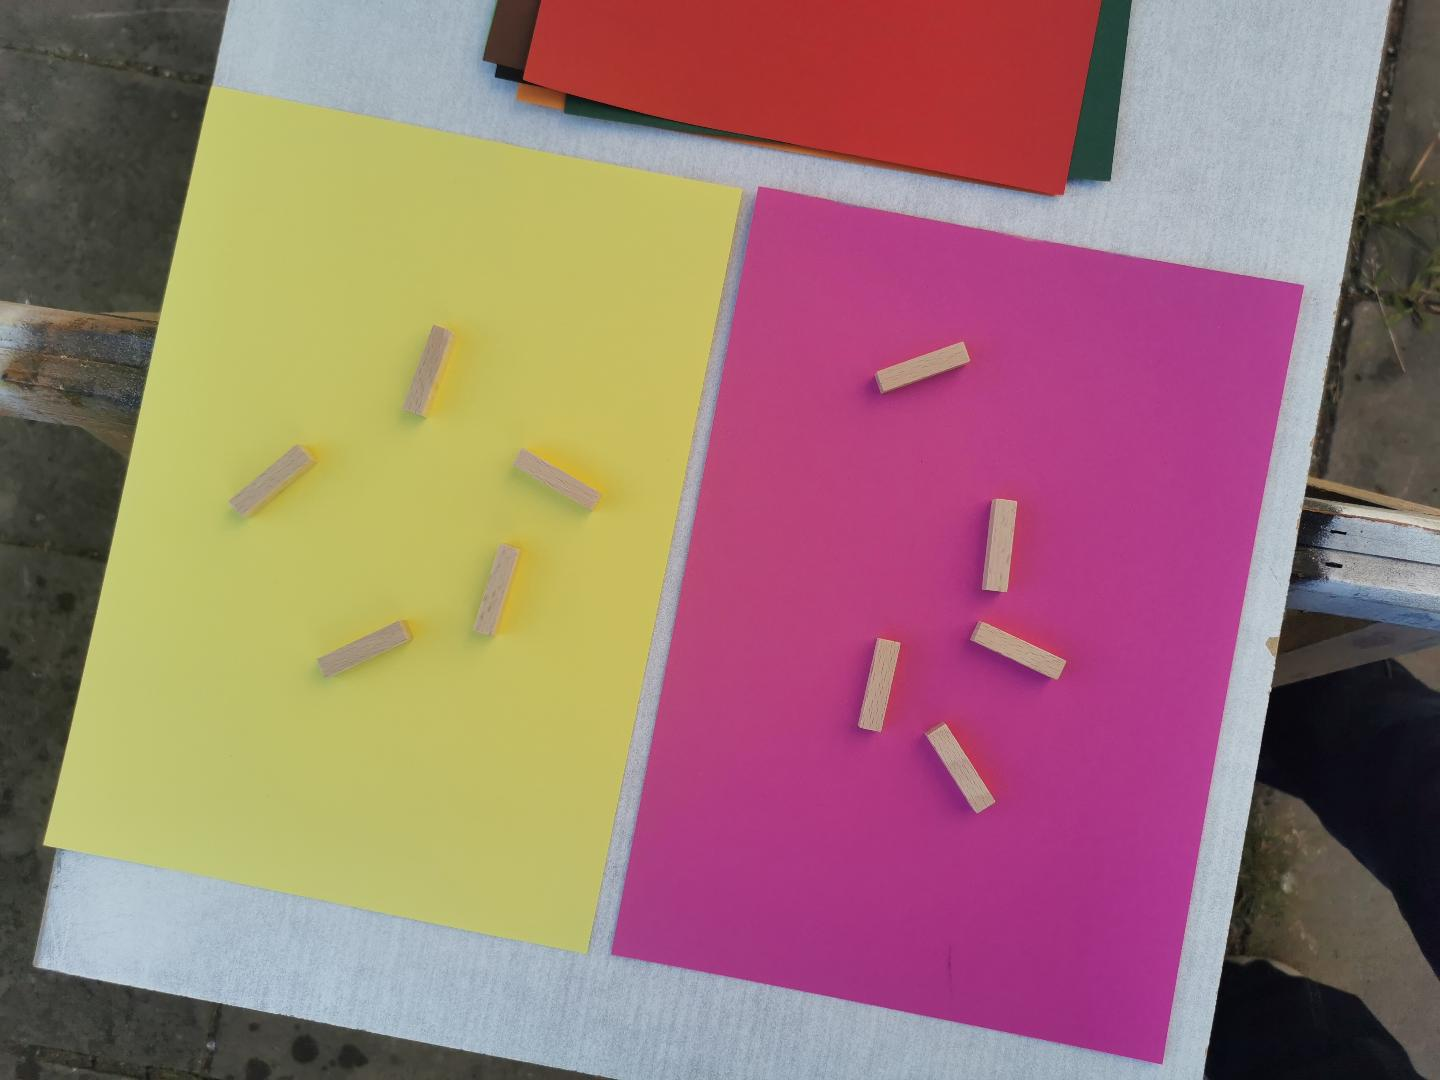jenga: (231, 444, 318, 518), (925, 723, 996, 813), (970, 622, 1066, 678), (318, 622, 411, 678), (515, 450, 599, 509), (875, 343, 970, 394), (402, 326, 453, 416), (472, 543, 520, 636), (858, 638, 900, 731), (982, 498, 1018, 593)
